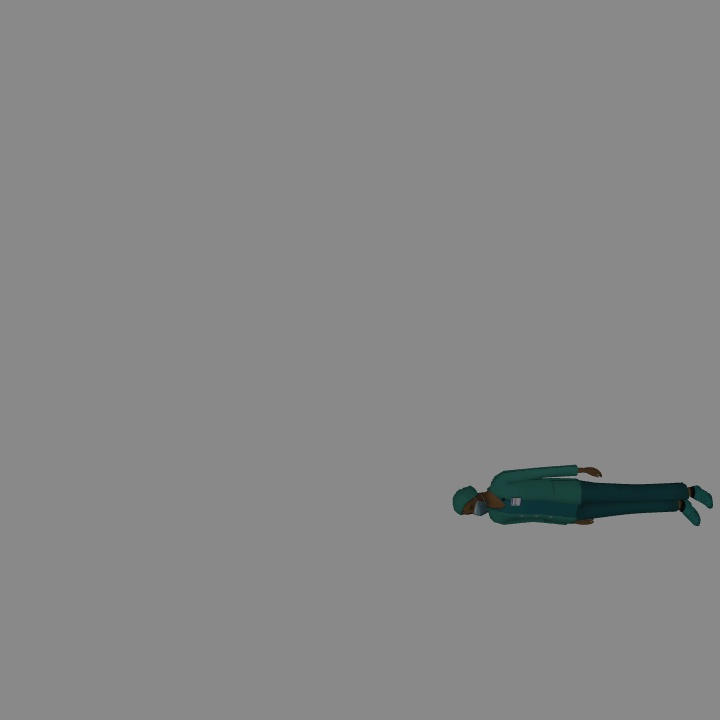victim: (456, 464, 715, 536)
